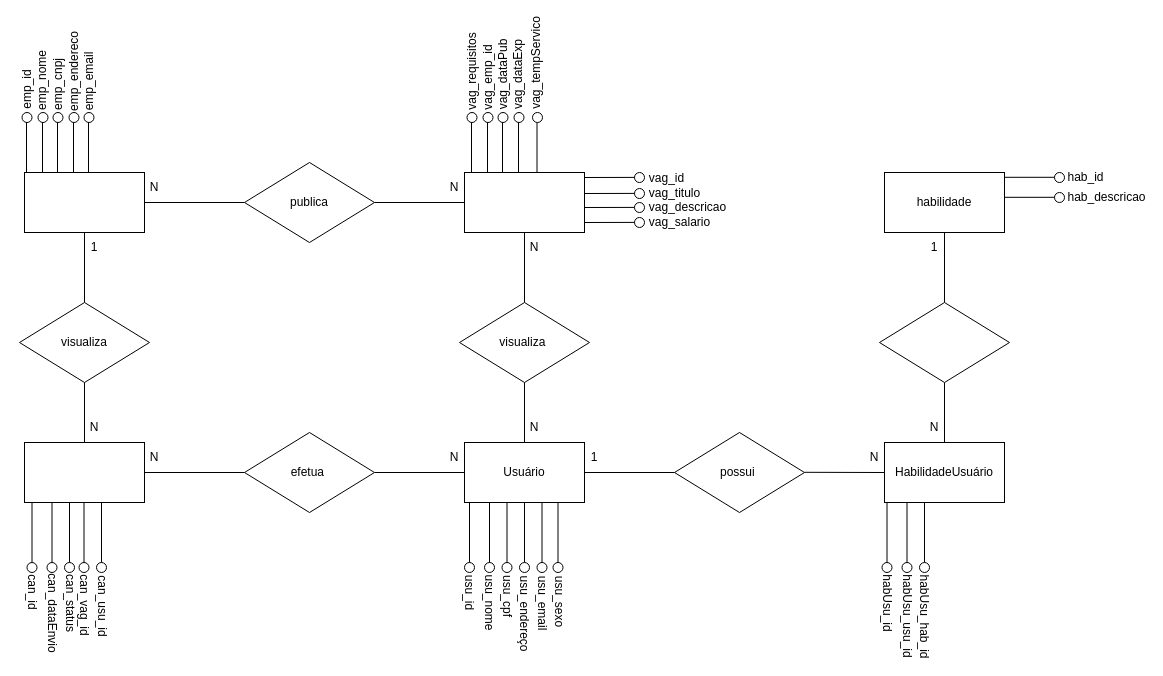
Some shapes in this 1163 by 676 pixel diagram are drawn without their labels. Here are the shapes that lost their labels. From the top down, the centre of each, then its label:
At (x=84, y=202): "empresa".
At (x=524, y=202): "vagas".
At (x=944, y=342): "armazena".
At (x=84, y=472): "candidatura".
